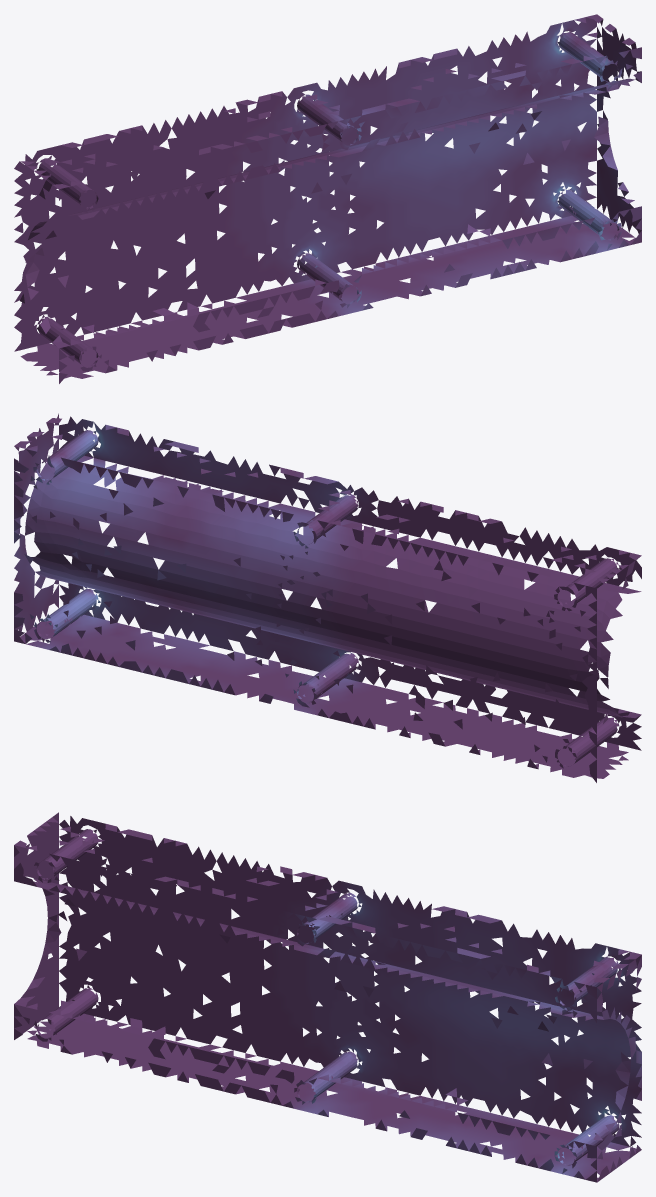
Rendered from SAD-L.glb.
3 renders of one model, top to bottom at view 1: azimuth 30°, elevation 25°; view 2: azimuth 150°, elevation 25°; view 3: azimuth 330°, elevation 25°, orthographic.
Visible parts, largest first — view 1: geometry_0; view 2: geometry_0; view 3: geometry_0.
Boxes of the visible parts, <box> form: geometry_0: <box>14,14,641,383</box>; geometry_0: <box>14,413,641,782</box>; geometry_0: <box>14,812,641,1182</box>.
Size of the model in its own units: 150 by 48 by 20.
